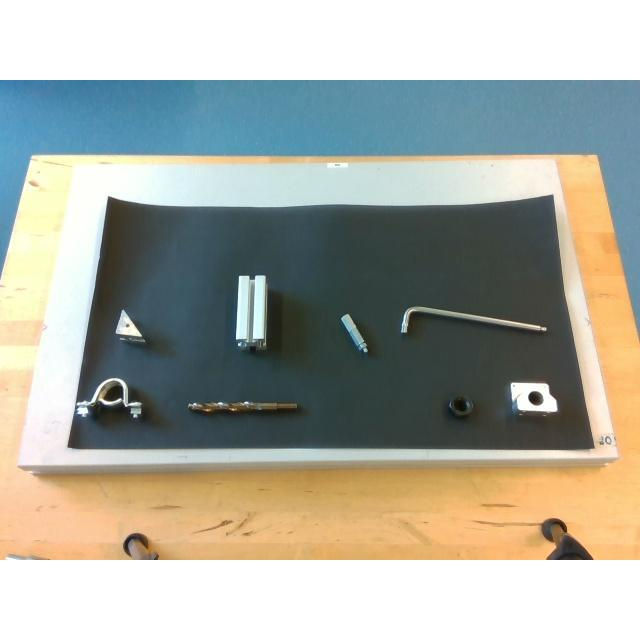AllenKey: (400, 306, 548, 334)
Drill: (186, 400, 298, 416)
Housing: (76, 376, 142, 416)
M20: (447, 396, 473, 416)
S40_40_G: (235, 274, 267, 350)
